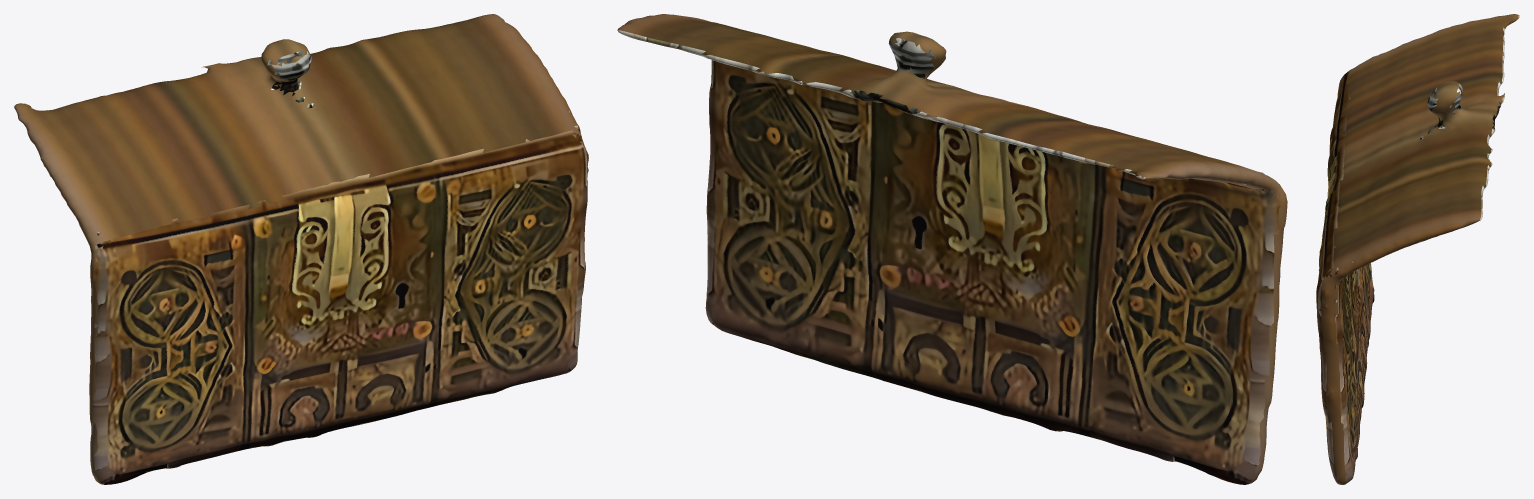
The model's file is kfl-2305.glb.
3 renders of one model, left to right at view 1: azimuth 30°, elevation 25°; view 2: azimuth 150°, elevation 25°; view 3: azimuth 270°, elevation 25°, orthographic. The views are drawn at different scales.
Visible parts, largest first — view 1: kfl-2305; view 2: kfl-2305; view 3: kfl-2305.
Part boxes in pixels (<box>): kfl-2305: <box>14,14,588,484</box>; kfl-2305: <box>617,14,1287,484</box>; kfl-2305: <box>1316,14,1519,484</box>.
Bounding box in the file's own units: 0.9845 × 0.6816 × 0.3998.
Materials: 4 (4 with a texture image).
